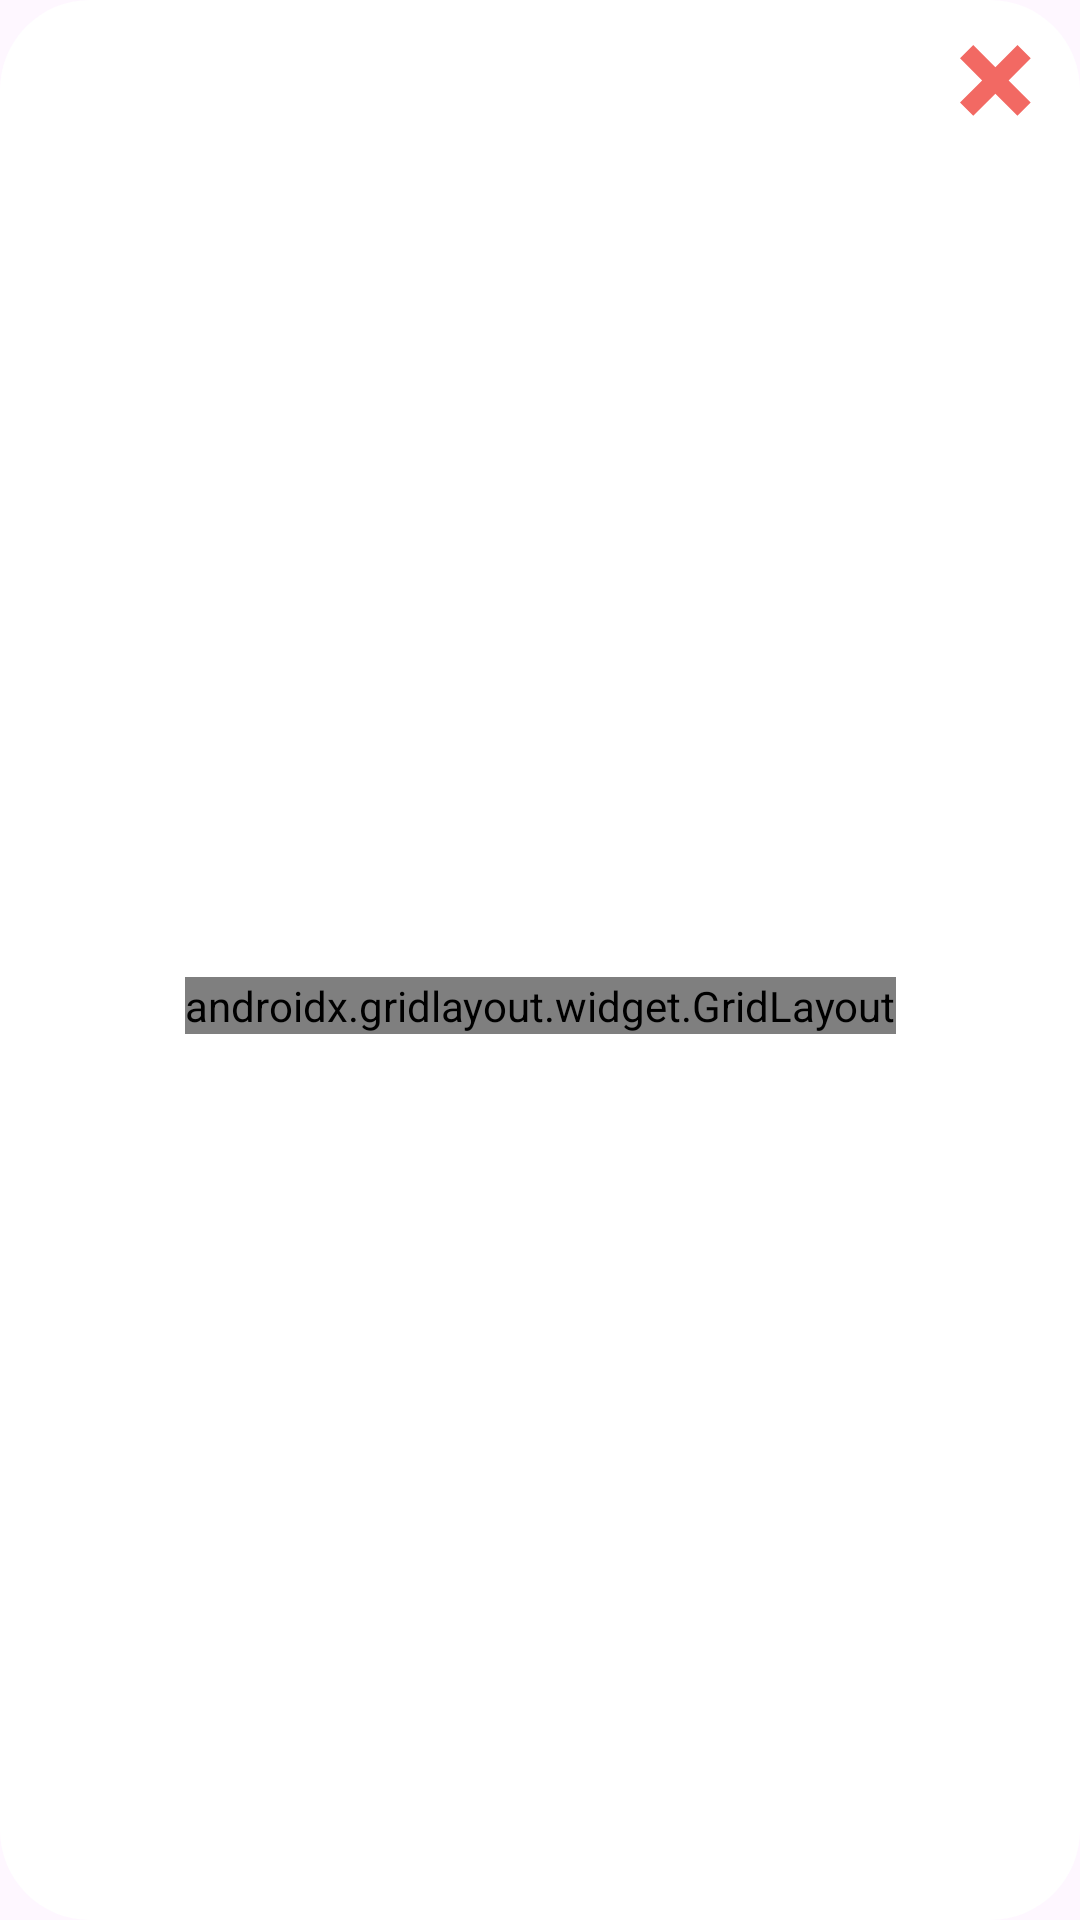

Where to tap for icons on this 1080*1920 app screen, as [x,y]:
tombol close: [995,80]
